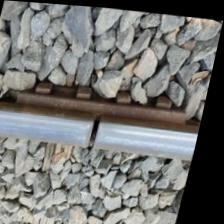person: (69, 99, 131, 158)
